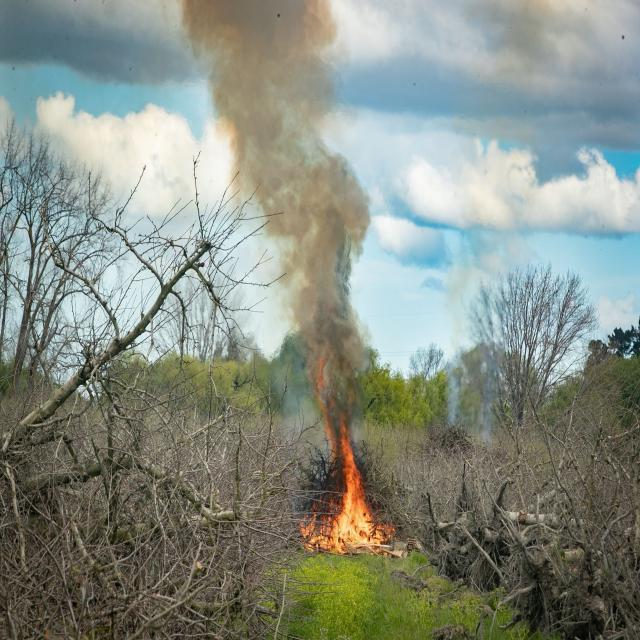Fire: (302, 426, 404, 562)
Smoke: (157, 2, 376, 447)
